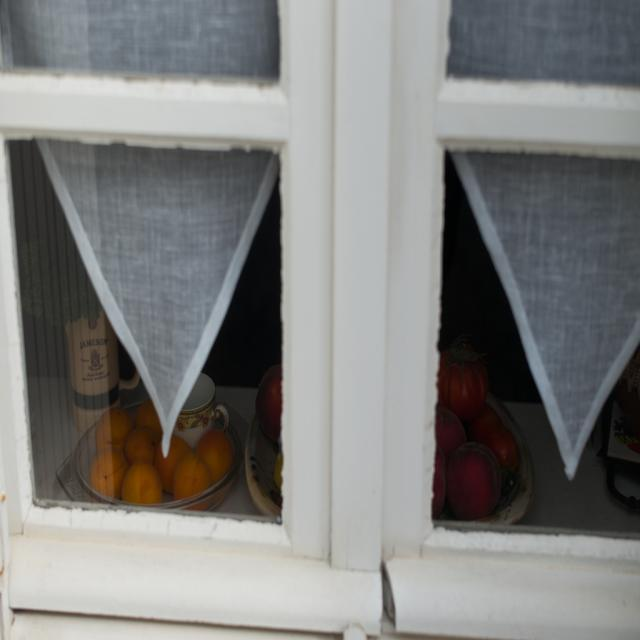Orange: (89, 410, 233, 506)
